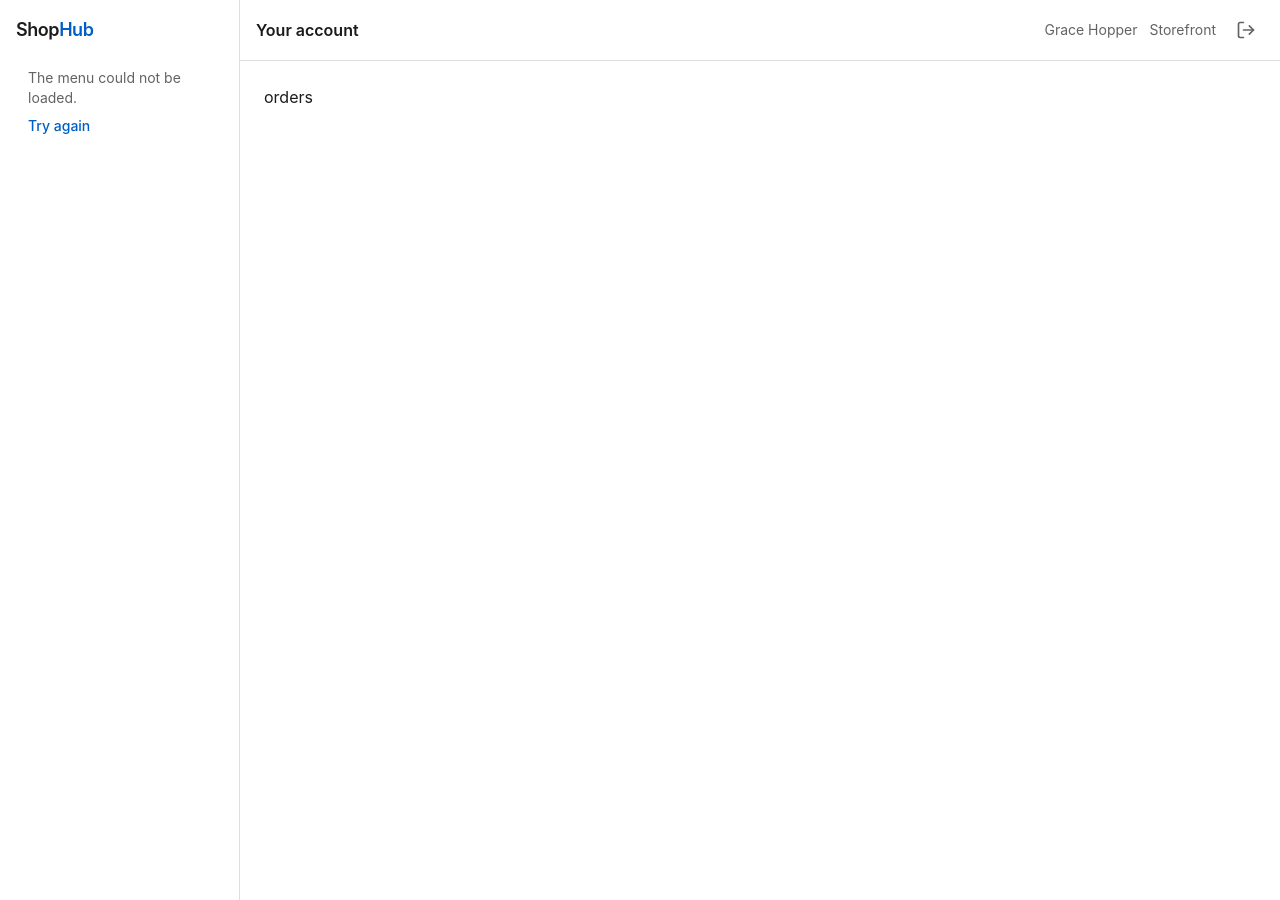
Test: AdminLayout menu loading › says the menu failed to load and retries on request
The width and height of the screenshot is (1280, 900).
expect the text "The menu could not be loaded." is shown: met, box x1=28 y1=69 x2=181 y2=106
Click the button "Try again". click: (59, 126)
box: x1=28 y1=116 x2=90 y2=136
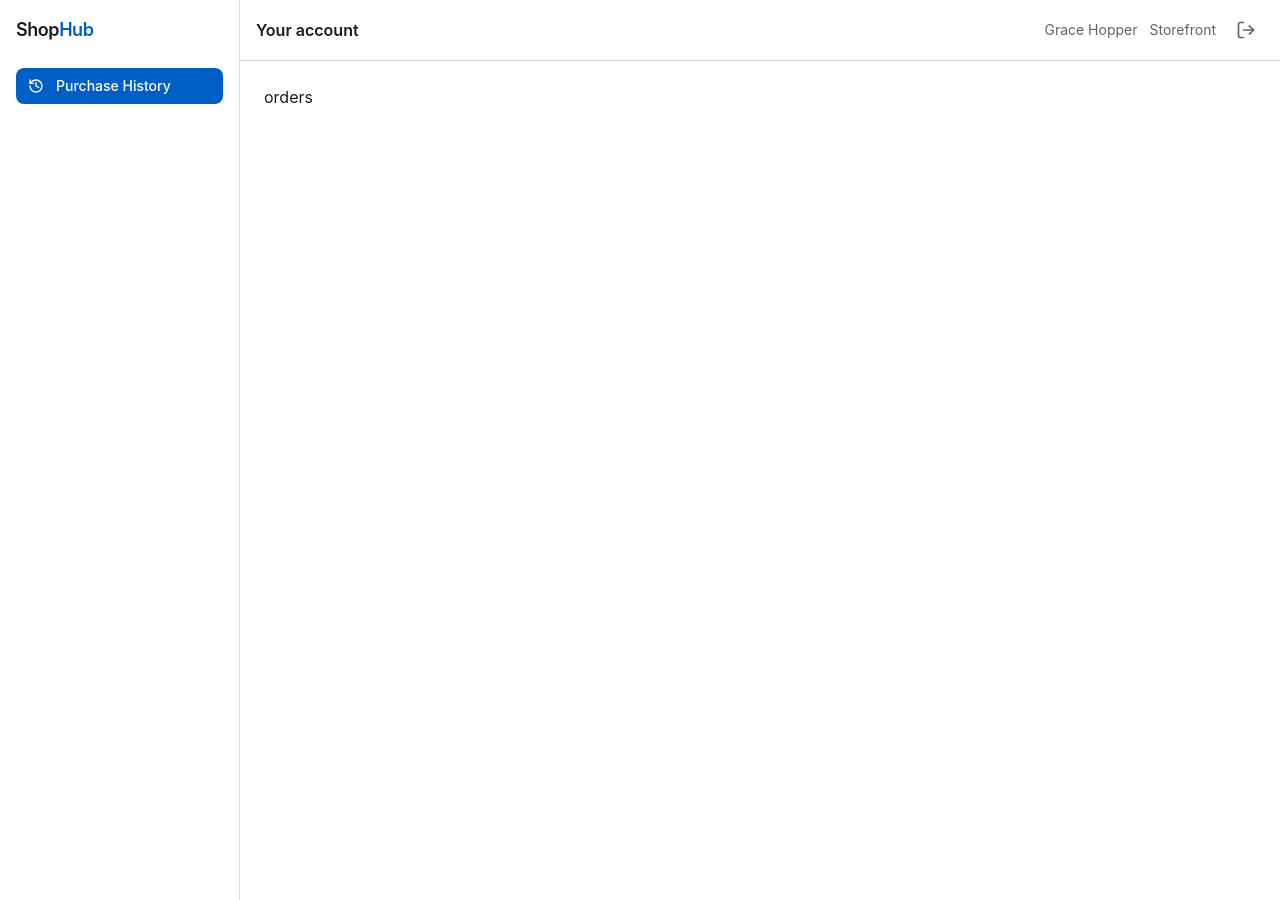
expect the link "Purchase History" is shown: met, box x1=16 y1=68 x2=223 y2=104
